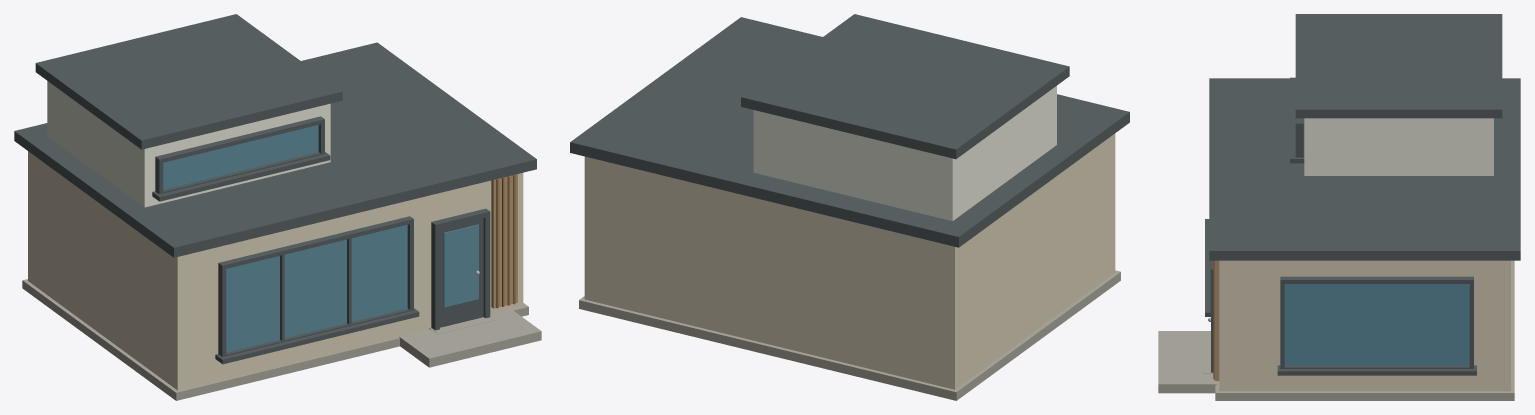
Rendered from house_modern_flat_roof.glb.
The picture shows the model from 3 angles, left to right: view 1: azimuth 30°, elevation 25°; view 2: azimuth 150°, elevation 25°; view 3: azimuth 270°, elevation 25°; orthographic projection. The views are drawn at different scales.
Parts seen in each view (by area): view 1: Modern_Main_Walls, Modern_Main_Flat_Roof, Modern_Upper_Flat_Roof, Modern_Front_Picture_Window_Glass, Modern_Upper_Volume, Modern_Foundation, Modern_Upper_Ribbon_Window_Glass, Modern_Entrance_Deck, Modern_Wood_Accent, Modern_Front_Door_Glass, Modern_Front_Door_Door, Modern_Front_Picture_Window_Horizontal_Frame_1 (+10 smaller); view 2: Modern_Main_Walls, Modern_Main_Flat_Roof, Modern_Upper_Flat_Roof, Modern_Upper_Volume, Modern_Foundation; view 3: Modern_Main_Flat_Roof, Modern_Upper_Flat_Roof, Modern_Main_Walls, Modern_Right_Picture_Window_Glass, Modern_Upper_Volume, Modern_Foundation, Modern_Entrance_Deck, Modern_Right_Picture_Window_Horizontal_Frame_1, Modern_Right_Picture_Window_Sill, Modern_Right_Picture_Window_Horizontal_Frame_-1, Modern_Wood_Accent, Modern_Upper_Ribbon_Window_Sill (+3 smaller).
Part boxes in pixels (left/top/right/bottom): Modern_Main_Walls: left=28, top=151, right=523, bottom=390; Modern_Main_Flat_Roof: left=14, top=42, right=536, bottom=257; Modern_Upper_Flat_Roof: left=35, top=14, right=342, bottom=149; Modern_Front_Picture_Window_Glass: left=226, top=224, right=407, bottom=352; Modern_Upper_Volume: left=47, top=81, right=330, bottom=207; Modern_Foundation: left=22, top=279, right=528, bottom=400; Modern_Upper_Ribbon_Window_Glass: left=163, top=125, right=318, bottom=189; Modern_Entrance_Deck: left=399, top=309, right=541, bottom=367; Modern_Wood_Accent: left=491, top=174, right=517, bottom=308; Modern_Front_Door_Glass: left=443, top=224, right=478, bottom=307; Modern_Front_Door_Door: left=440, top=218, right=483, bottom=327; Modern_Front_Picture_Window_Horizontal_Frame_1: left=218, top=216, right=413, bottom=269; Modern_Main_Walls: left=584, top=133, right=1115, bottom=389; Modern_Main_Flat_Roof: left=570, top=17, right=1129, bottom=247; Modern_Upper_Flat_Roof: left=741, top=14, right=1069, bottom=159; Modern_Upper_Volume: left=753, top=86, right=1056, bottom=221; Modern_Foundation: left=579, top=270, right=1120, bottom=400; Modern_Main_Flat_Roof: left=1209, top=78, right=1520, bottom=260; Modern_Upper_Flat_Roof: left=1295, top=14, right=1502, bottom=118; Modern_Main_Walls: left=1219, top=260, right=1510, bottom=391; Modern_Right_Picture_Window_Glass: left=1284, top=284, right=1469, bottom=365; Modern_Upper_Volume: left=1304, top=118, right=1493, bottom=175; Modern_Foundation: left=1215, top=260, right=1514, bottom=400; Modern_Entrance_Deck: left=1158, top=331, right=1216, bottom=393; Modern_Right_Picture_Window_Horizontal_Frame_1: left=1280, top=276, right=1473, bottom=283; Modern_Right_Picture_Window_Sill: left=1277, top=365, right=1476, bottom=375; Modern_Right_Picture_Window_Horizontal_Frame_-1: left=1280, top=365, right=1473, bottom=368; Modern_Wood_Accent: left=1214, top=260, right=1219, bottom=380; Modern_Upper_Ribbon_Window_Sill: left=1290, top=77, right=1304, bottom=163.
Bounding box in the file's own units: 8.49 × 5.05 × 7.45.
